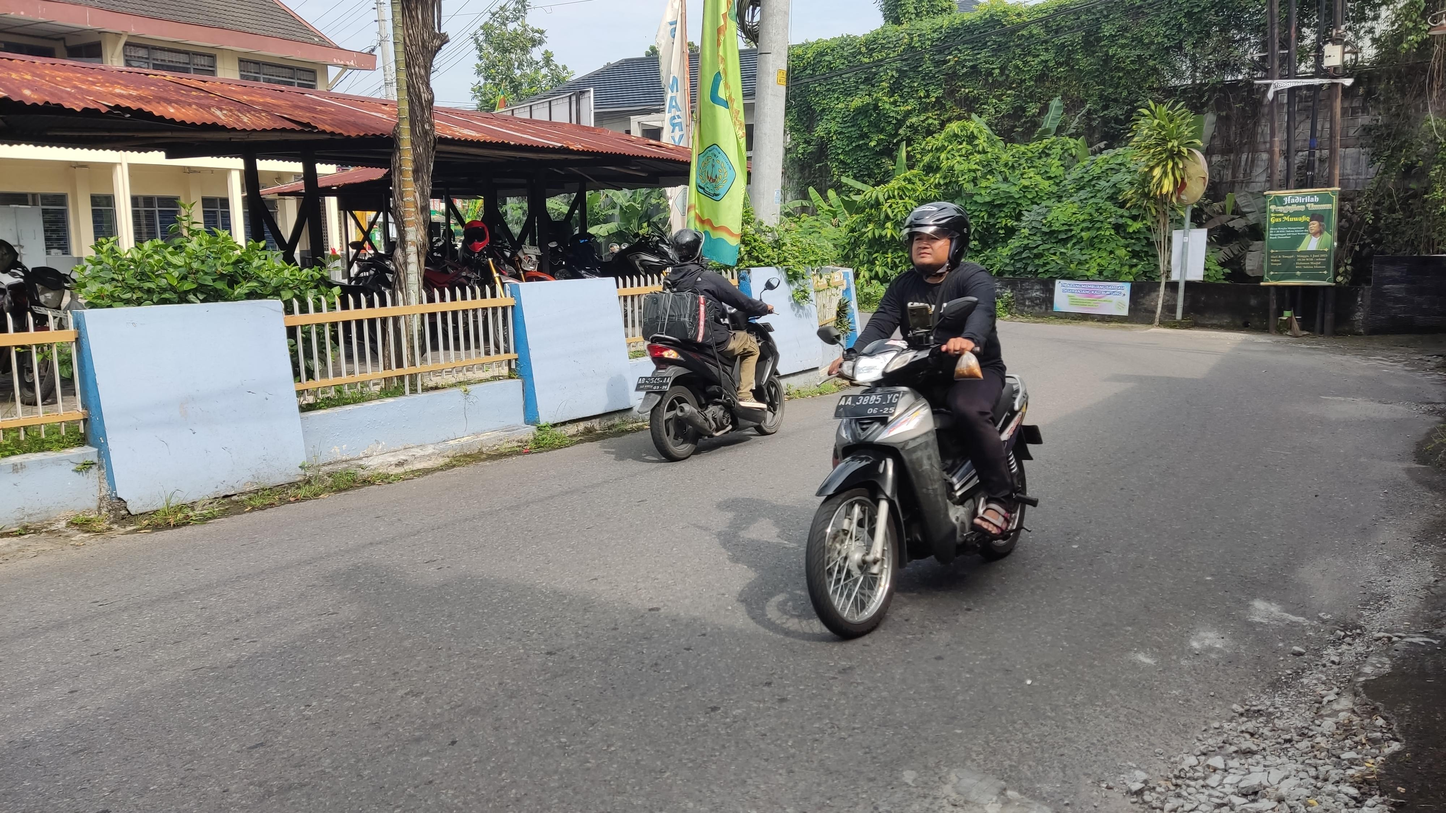helm: (897, 201, 973, 276)
riding: (804, 198, 1045, 641)
